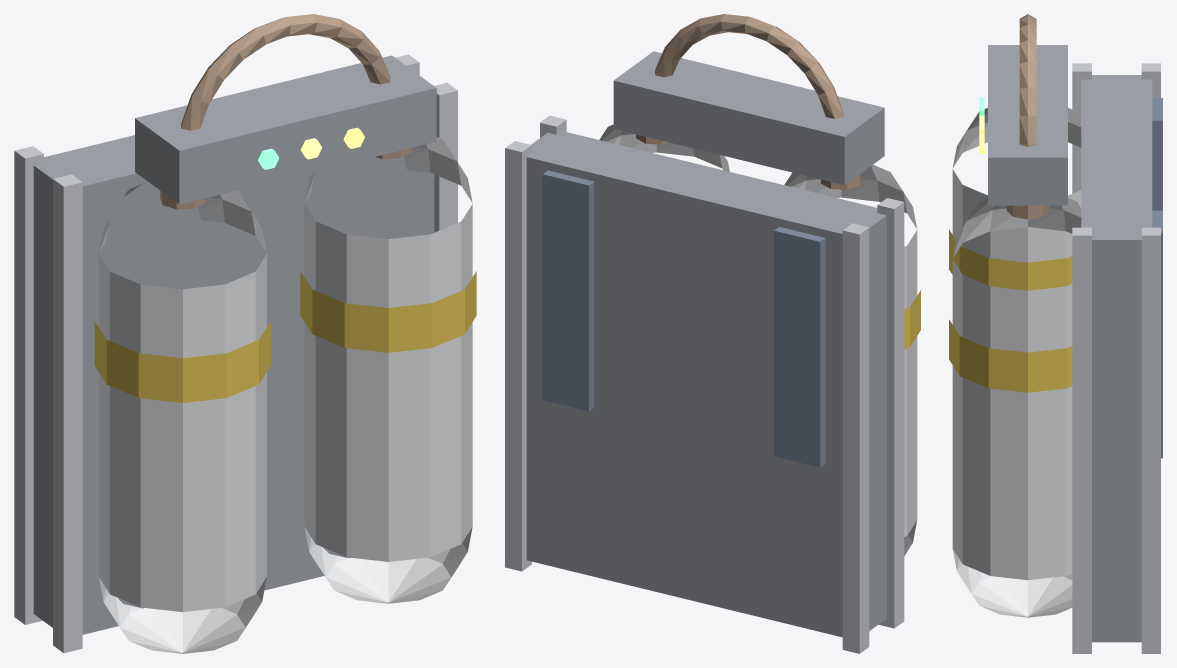
Rendered from prop_oxygen_pack.glb.
3 renders of one model, left to right at view 1: azimuth 30°, elevation 25°; view 2: azimuth 150°, elevation 25°; view 3: azimuth 270°, elevation 25°, orthographic. The views are drawn at different scales.
Visible parts, largest first — view 1: prop_oxygen_pack; view 2: prop_oxygen_pack; view 3: prop_oxygen_pack.
Boxes of the visible parts, x1,y1,x2,y2 form: prop_oxygen_pack: (14, 14, 476, 653); prop_oxygen_pack: (505, 14, 920, 653); prop_oxygen_pack: (949, 14, 1162, 653).
Size of the model in its own units: 0.46 by 0.681 by 0.241.
